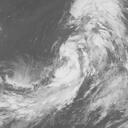cyclone: (59, 24, 126, 97)
